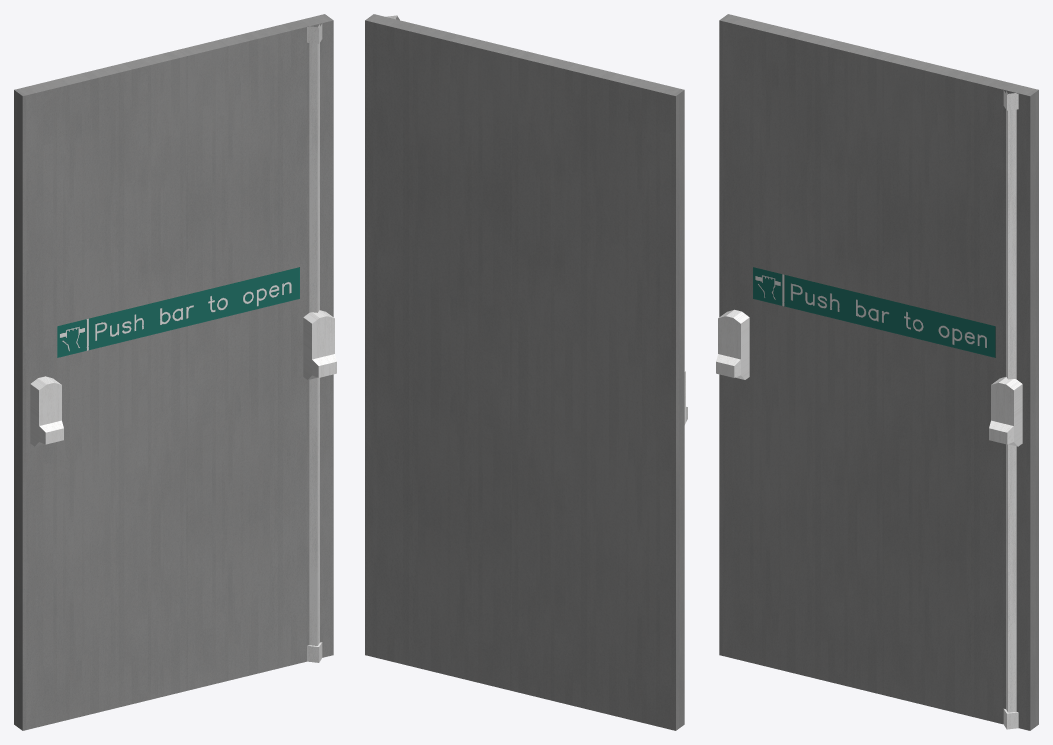
File: warehouse_door_L.glb
3 renders of one model, left to right at view 1: azimuth 30°, elevation 25°; view 2: azimuth 150°, elevation 25°; view 3: azimuth 330°, elevation 25°, orthographic.
Parts seen in each view (by area): view 1: Cube.243, Cube.248; view 2: Cube.243; view 3: Cube.243, Cube.248.
Part boxes in pixels (bbox=[...]): Cube.243: bbox=[14, 14, 333, 730]; Cube.248: bbox=[30, 23, 336, 662]; Cube.243: bbox=[365, 14, 684, 730]; Cube.243: bbox=[719, 14, 1038, 730]; Cube.248: bbox=[716, 90, 1022, 729].
Size of the model in its own units: 4.1 by 8 by 0.5.
3 materials, 3 textured.
